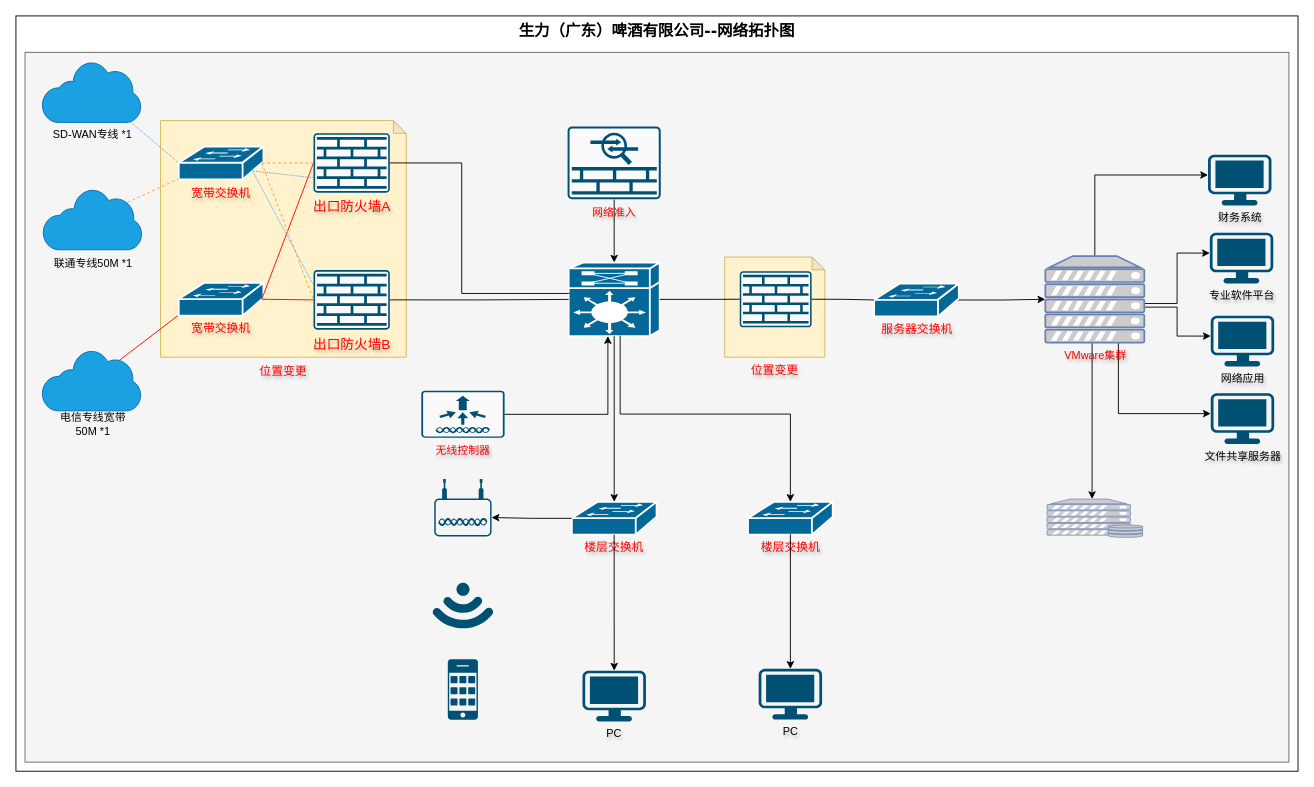
This 1314x787 diagram has some shape labels left out. The centre of each missing label's shape, as x and y in pixels:
"存储服务器" goes at point (1094, 518).
"无线AP" goes at point (462, 507).
"服务器防火墙" goes at point (775, 298).
"核心交换机" goes at point (613, 299).
"移动设备" goes at point (462, 689).
